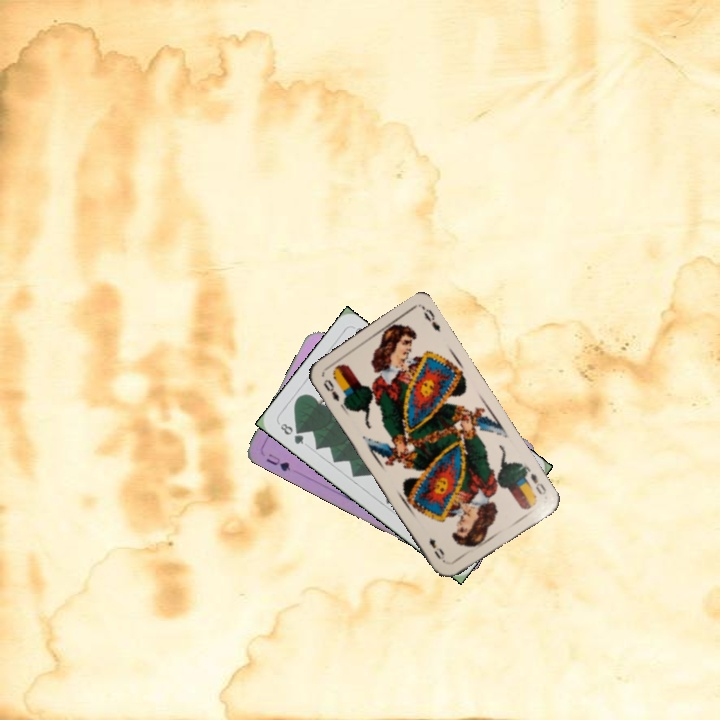EO: (520, 463, 549, 498), (319, 375, 342, 404)
G8: (276, 419, 306, 447)
GU: (262, 449, 293, 474)
